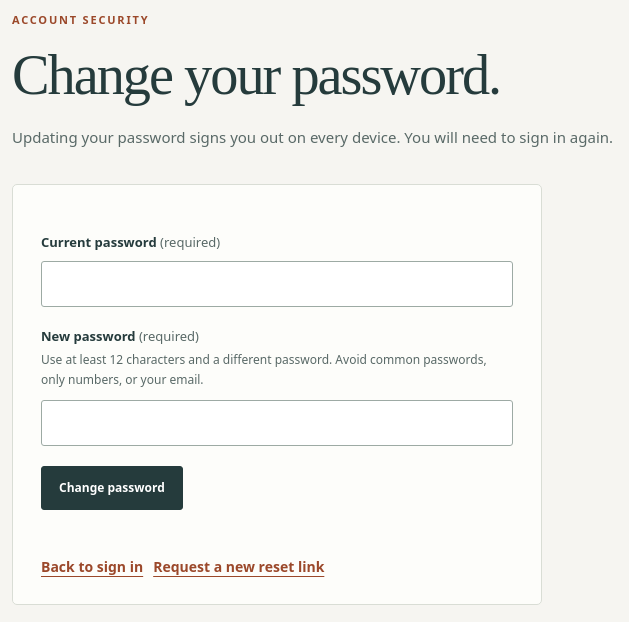
Test: changes passwords, clears credentials and directs the user to sign in again
Type "synthetic-old-password" into the password field labelled "Current password (required)". click: (277, 284)
box: x1=41 y1=261 x2=513 y2=307
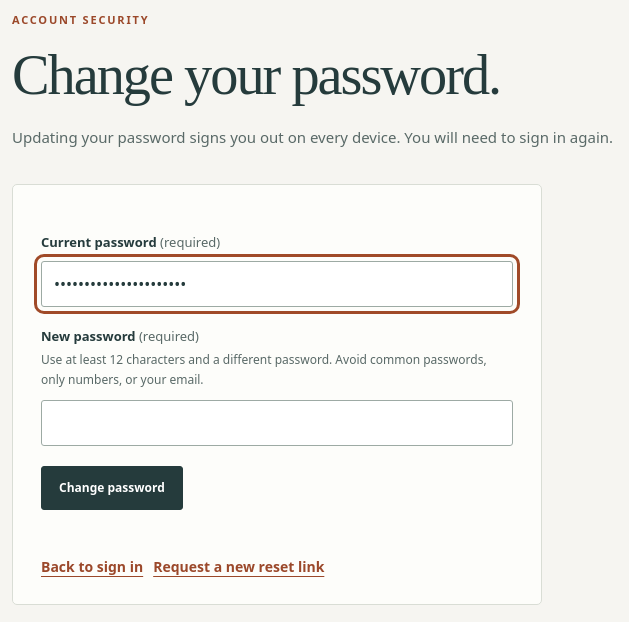
Type "synthetic-new-password" into the password field labelled "New password (required)". click: (277, 422)
box: x1=41 y1=400 x2=513 y2=446
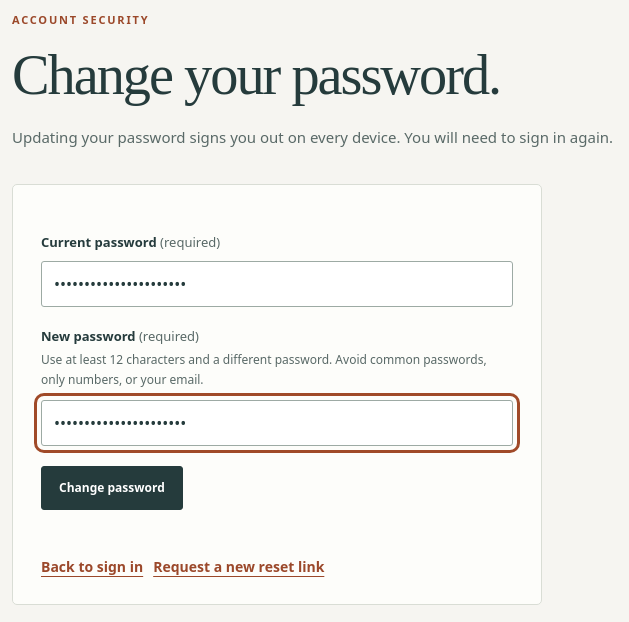
Click the button "Change password". click: (112, 488)
box: x1=41 y1=466 x2=183 y2=510
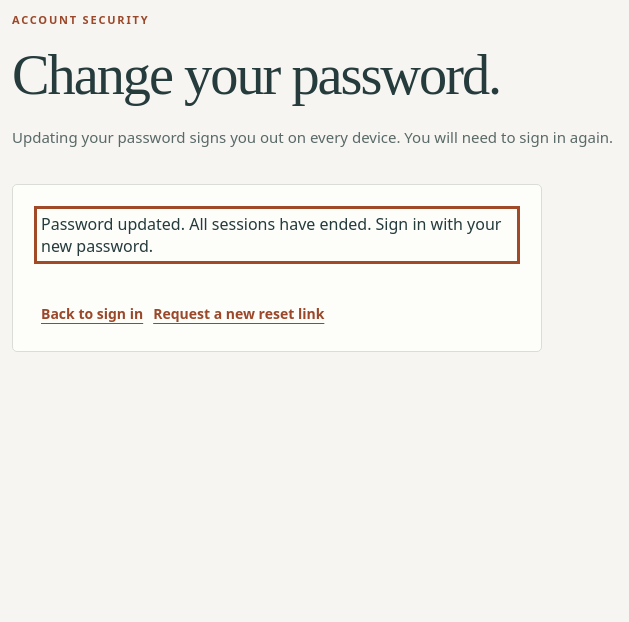
Check: the message shows "All sessions have ended", box x1=41 y1=213 x2=501 y2=257
Check: the label labelled "Current password" is gone
